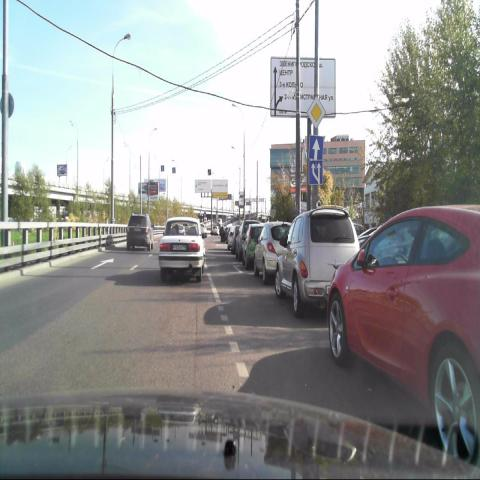5_5: (308, 133, 324, 160)
